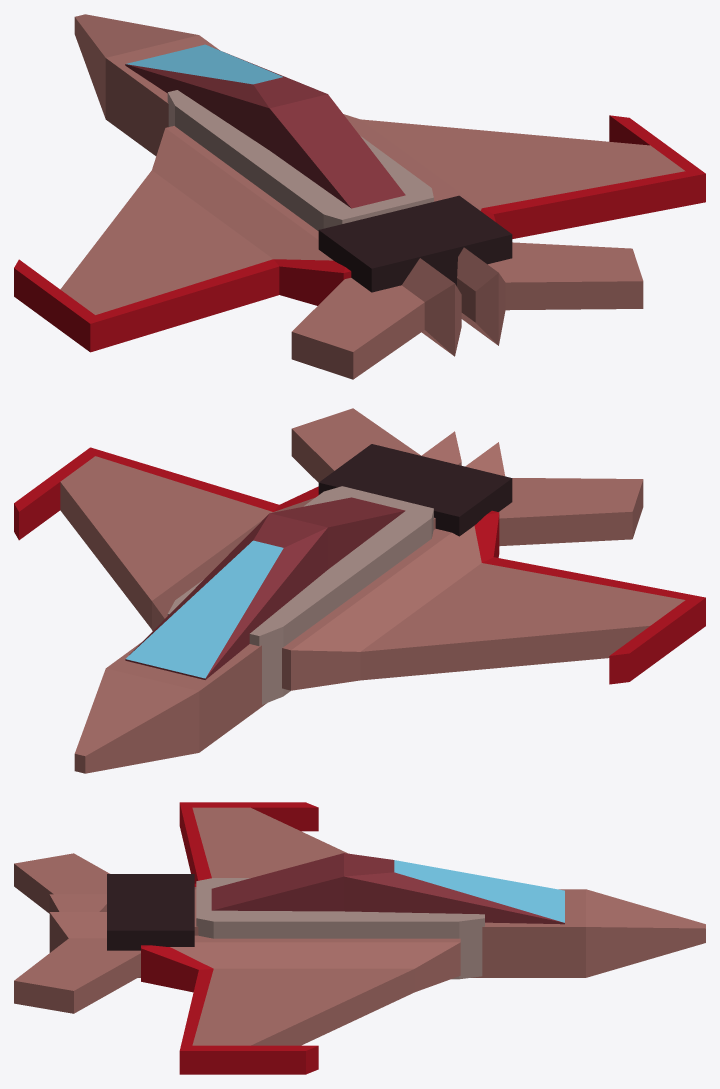
The model's file is enemyaircraft.fbx.
3 renders of one model, top to bottom at view 1: azimuth 30°, elevation 25°; view 2: azimuth 150°, elevation 25°; view 3: azimuth 270°, elevation 25°, orthographic. The views are drawn at different scales.
Visible parts, largest first — view 1: Cube; view 2: Cube; view 3: Cube.
Boxes of the visible parts, <box> form: Cube: <box>14,14,705,379</box>; Cube: <box>14,408,705,773</box>; Cube: <box>14,802,705,1074</box>.
Bounding box in the file's own units: 357 × 66.43 × 420.
